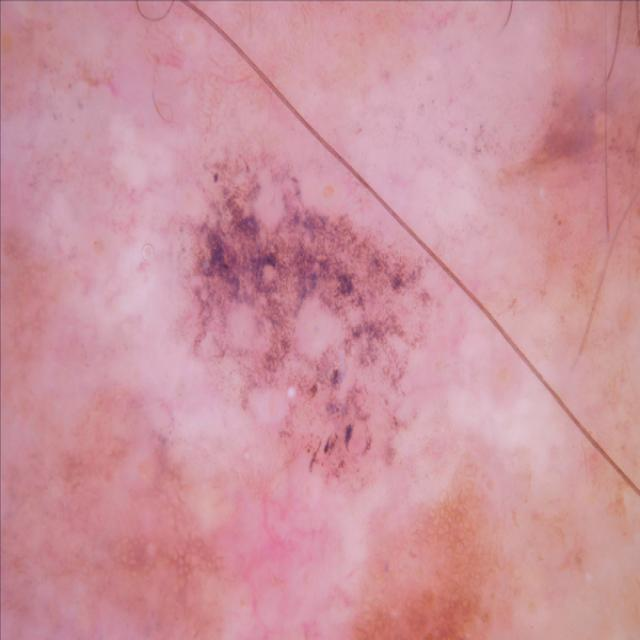Skin-Cancer Pigmented benign keratosis: (48, 53, 594, 560)
